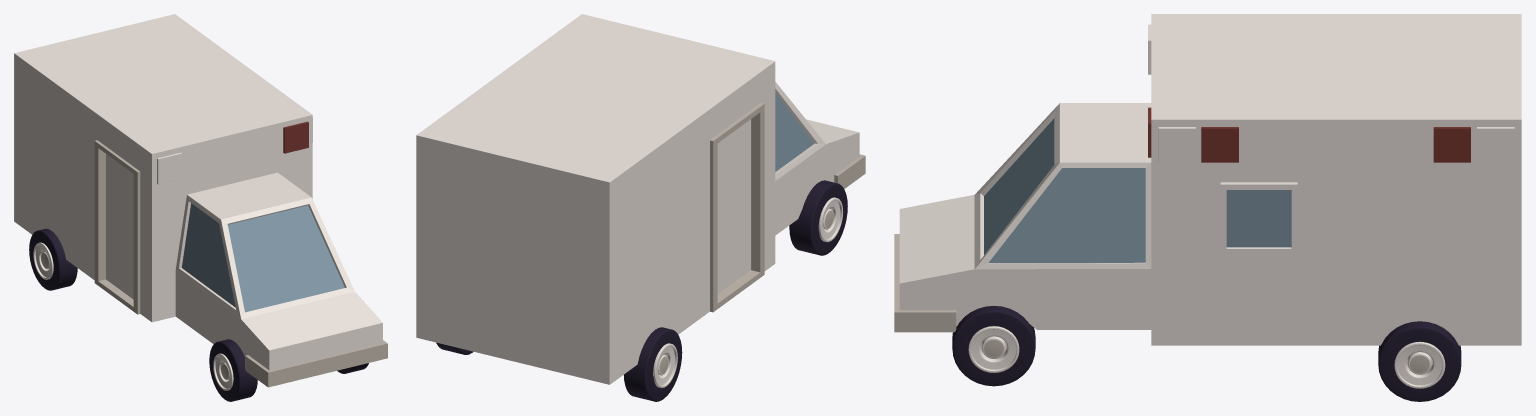
The model's file is ambulance.fbx.
The picture shows the model from 3 angles, left to right: view 1: azimuth 30°, elevation 25°; view 2: azimuth 150°, elevation 25°; view 3: azimuth 270°, elevation 25°; orthographic projection. The views are drawn at different scales.
Parts seen in each view (by area): view 1: car 18; view 2: car 18; view 3: car 18.
Boxes of the visible parts, x1,y1,x2,y2 form: car 18: [14, 14, 387, 401]; car 18: [416, 14, 865, 401]; car 18: [894, 14, 1521, 401].
Size of the model in its own units: 225 by 245 by 503.
